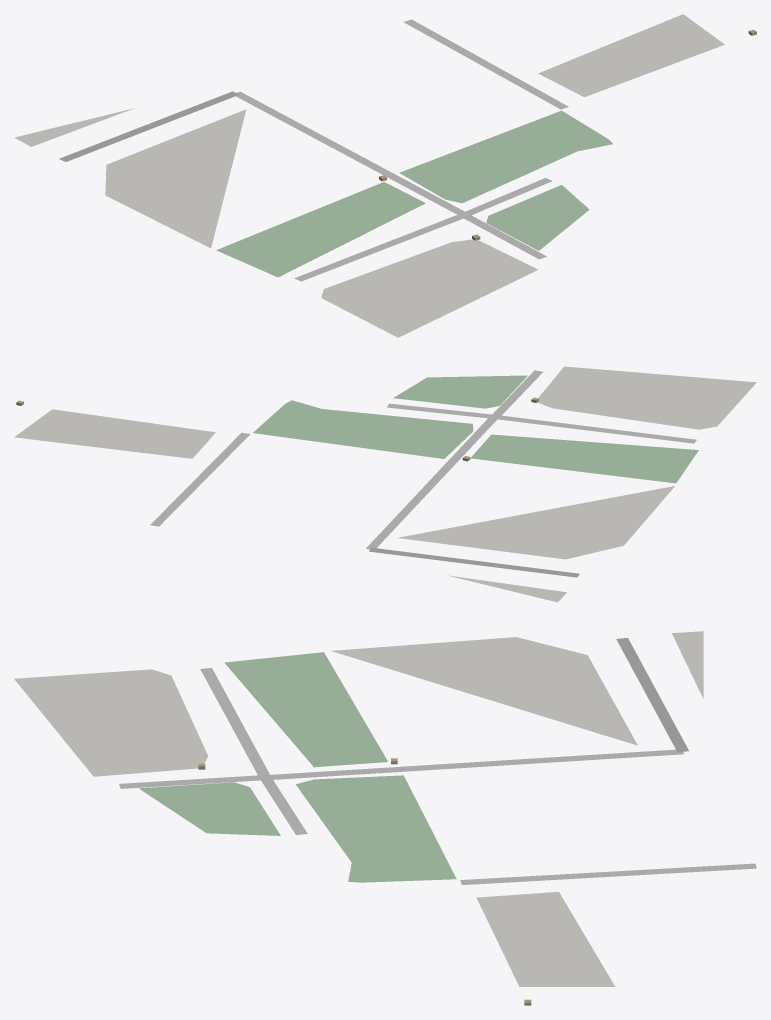
3 views of the same model, one above another, from view 1: azimuth 30°, elevation 25°; view 2: azimuth 150°, elevation 25°; view 3: azimuth 270°, elevation 25° (orthographic). The views are drawn at different scales.
Bounding box in the file's own units: 508 × 3.21 × 428.
